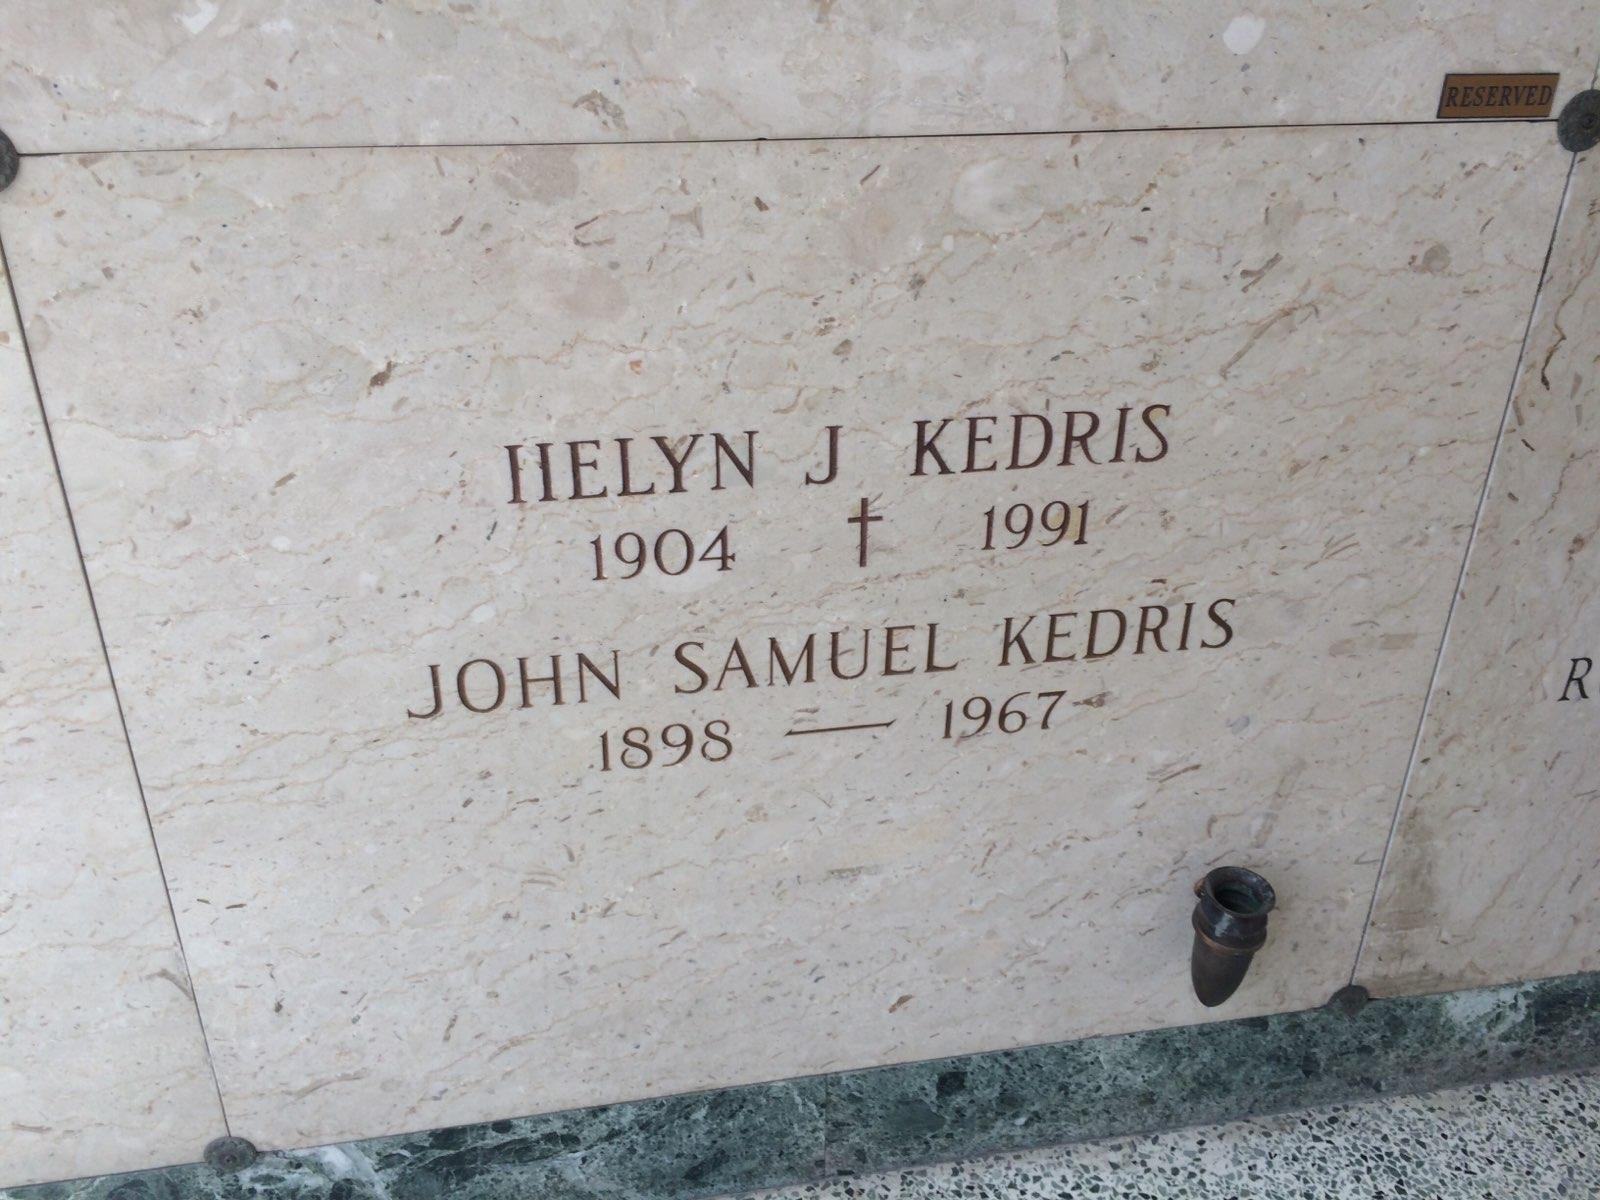plaque: (0, 103, 1594, 1156)
